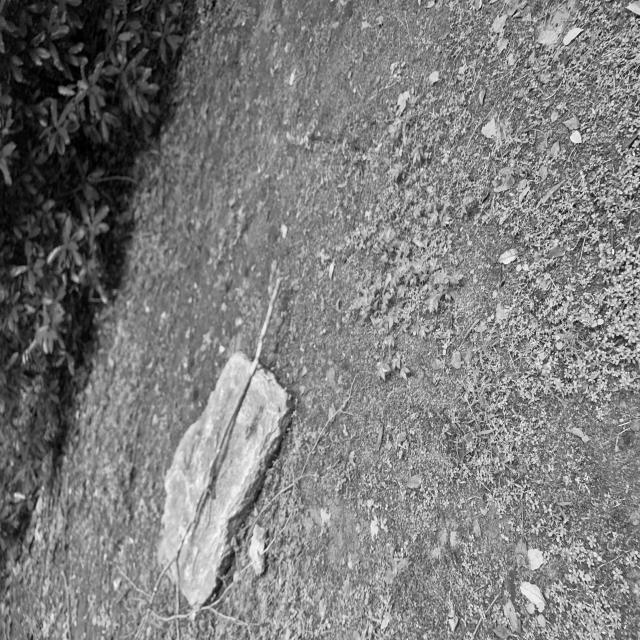Stone: (165, 352, 289, 608)
